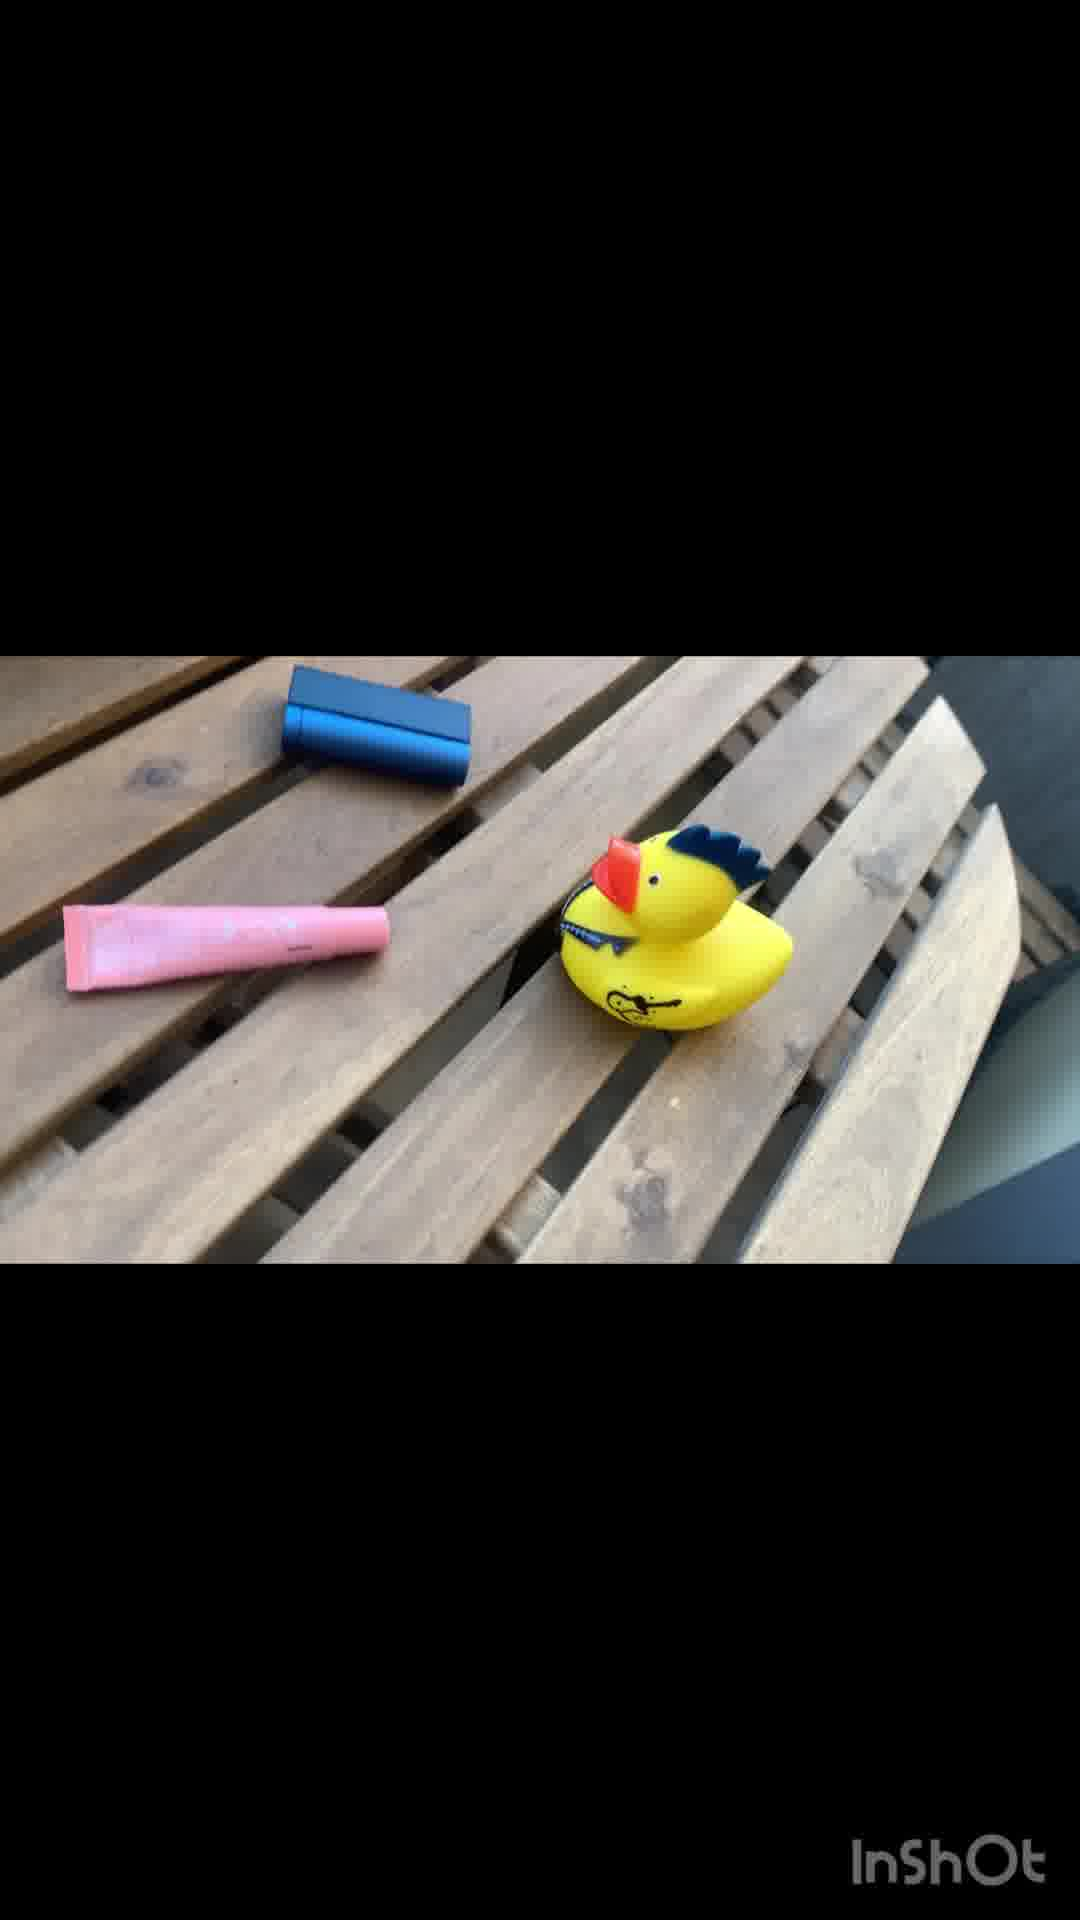duck: (545, 816, 803, 1040)
glo: (282, 675, 487, 793)
lip balm: (46, 898, 380, 980)
